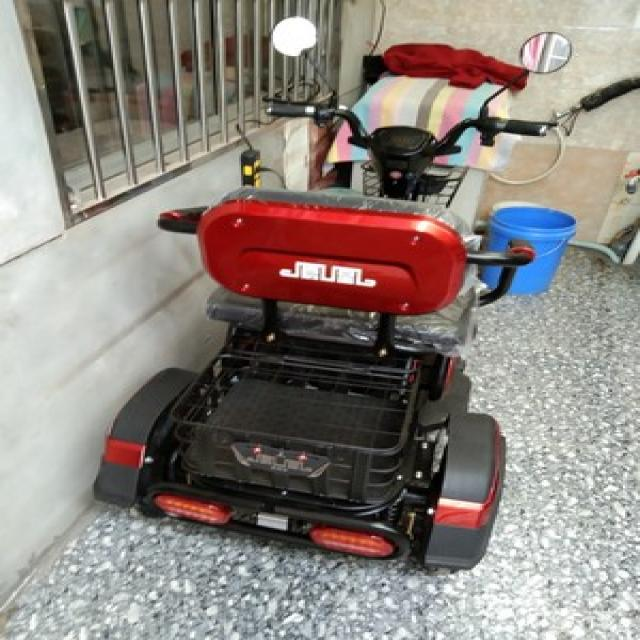tricycle: (90, 11, 570, 573)
